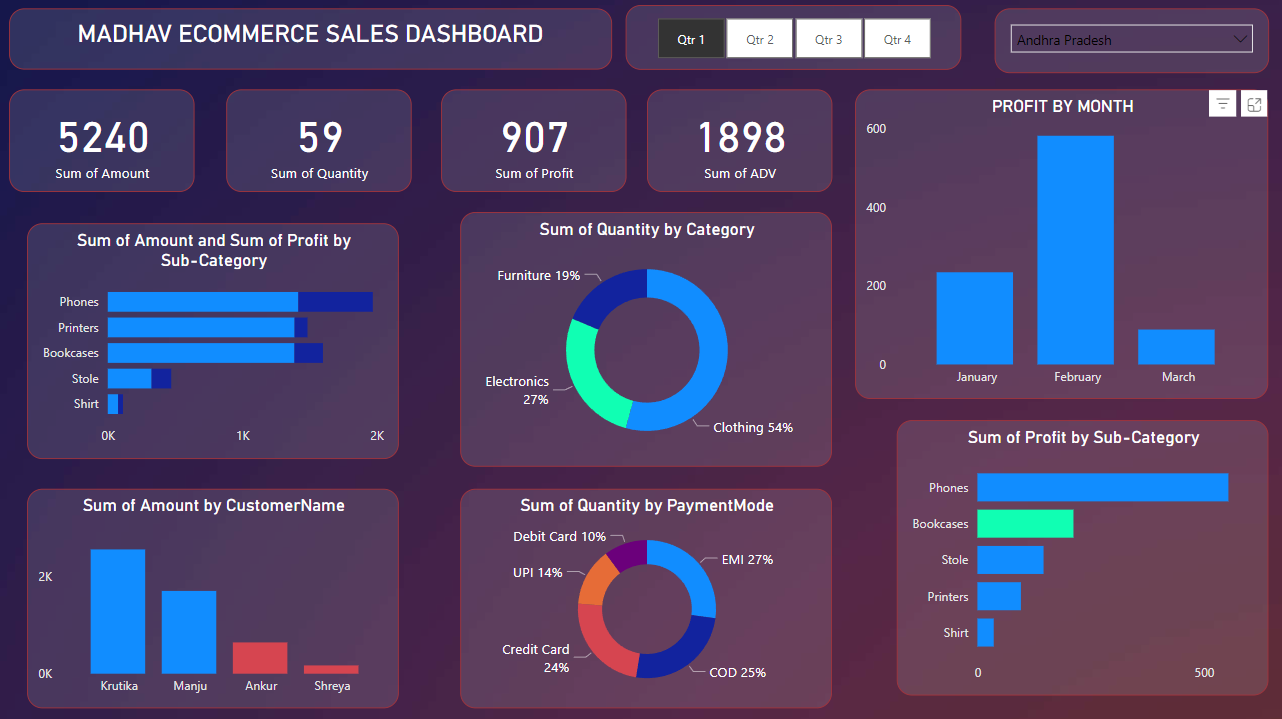

Layout of this report page (visuals, bound fields, positions):
{"tool":"powerbi","page":{"name":"Page 1","canvas":[1280,720],"ordinal":0},"visuals":[{"type":"textbox","box":[9.6,12,595.2,60.2],"z":0},{"type":"columnChart","title":"PROFIT BY MONTH","fields":{"Category":["Orders.Order Date.Variation.Date Hierarchy.Month"],"Y":["Details.Profit"]},"box":[845.8,92.8,408.4,306],"z":1000},{"type":"barChart","fields":{"Y":["Details.Profit"],"Category":["Details.Sub-Category"]},"box":[886.7,419.3,367.5,272.3],"z":2000},{"type":"donutChart","fields":{"Category":["Details.Category"],"Y":["Details.Quantity"]},"box":[455.4,213.3,367.5,251.8],"z":3000},{"type":"donutChart","fields":{"Category":["Details.PaymentMode","Details.Category"],"Y":["Details.Quantity"]},"box":[455.4,486.7,367.5,216.9],"z":4000},{"type":"card","fields":{"Values":["Details.Amount"]},"box":[9.6,92.8,183.1,101.2],"z":5000},{"type":"card","fields":{"Values":["Details.Quantity"]},"box":[224.1,92.8,183.1,101.2],"z":6000},{"type":"card","fields":{"Values":["Details.Profit"]},"box":[436.1,92.8,183.1,101.2],"z":7000},{"type":"card","fields":{"Values":["Details.ADV"]},"box":[639.8,92.8,183.1,101.2],"z":8000},{"type":"barChart","fields":{"Y":["Details.Amount","Details.Profit"],"Category":["Details.Sub-Category","Orders.State"]},"box":[27.7,224.1,367.5,232.5],"z":9000},{"type":"columnChart","fields":{"Category":["Orders.CustomerName"],"Y":["Details.Amount"]},"box":[28,487,367,217],"z":10000},{"type":"slicer","fields":{"Values":["Orders.Order Date.Variation.Date Hierarchy.Quarter"]},"box":[619.3,8.4,331.3,63.9],"z":11000},{"type":"slicer","fields":{"Values":["Orders.State"]},"box":[983.1,12,271.1,63.9],"z":12000}]}

Visuals, with their boxes in screenshot pixels (x1, y1, x2, y2), scaled from the page's 1280x720 canvas onto the 1282x719 screenshot:
textbox: [10,12,606,72]
"PROFIT BY MONTH" columnChart: [847,93,1256,398]
barChart - Details.Profit x Details.Sub-Category: [888,419,1256,691]
donutChart - Details.Category x Details.Quantity: [456,213,824,464]
donutChart - Details.PaymentMode x Details.Category: [456,486,824,703]
card - Details.Amount: [10,93,193,194]
card - Details.Quantity: [224,93,408,194]
card - Details.Profit: [437,93,620,194]
card - Details.ADV: [641,93,824,194]
barChart - Details.Amount x Details.Profit: [28,224,396,456]
columnChart - Orders.CustomerName x Details.Amount: [28,486,396,703]
slicer - Orders.Order Date.Variation.Date Hierarchy.Quarter: [620,8,952,72]
slicer - Orders.State: [985,12,1256,76]
